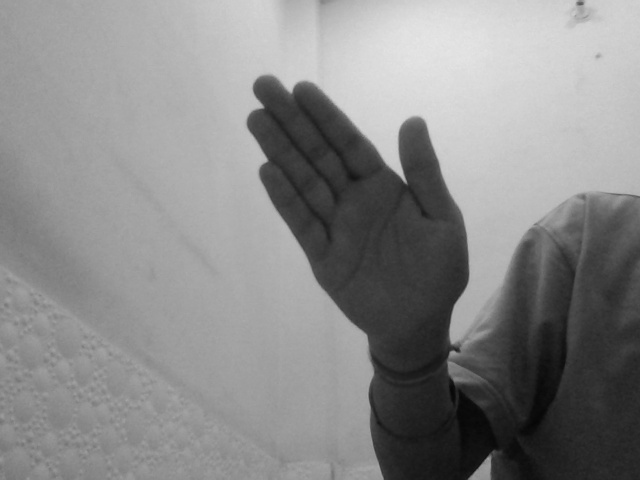Hello: (243, 69, 472, 339)
